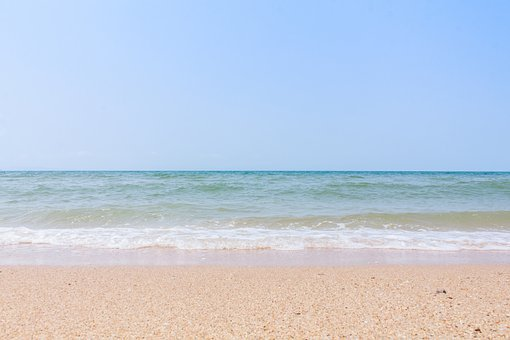beach: (2, 167, 510, 338)
sky: (3, 3, 510, 168)
